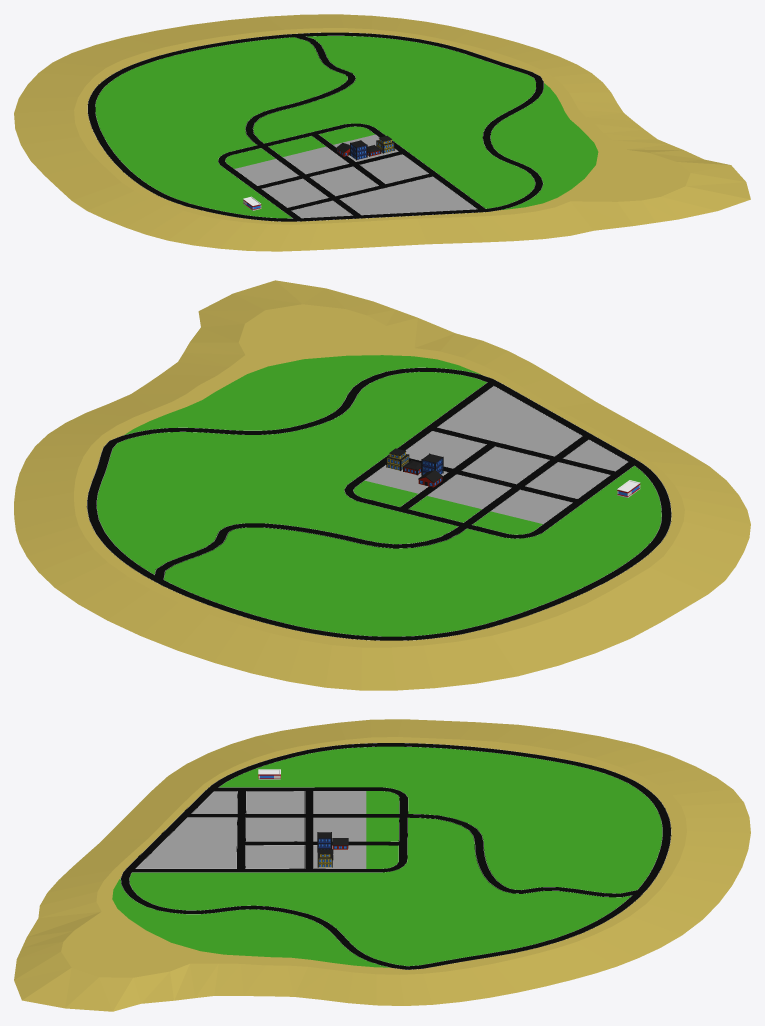
Rendered from ground.obj.
3 renders of one model, top to bottom at view 1: azimuth 30°, elevation 25°; view 2: azimuth 150°, elevation 25°; view 3: azimuth 270°, elevation 25°, orthographic. The views are drawn at different scales.
Parts seen in each view (by area): view 1: ground, road; view 2: ground, road; view 3: ground, road.
Boxes of the visible parts, x1=… form: ground: x1=14, y1=14, x2=750, y2=251; road: x1=87, y1=32, x2=543, y2=221; ground: x1=14, y1=280, x2=750, y2=690; road: x1=86, y1=367, x2=671, y2=640; ground: x1=14, y1=719, x2=750, y2=1011; road: x1=120, y1=743, x2=671, y2=969.
Size of the model in its own units: 805 by 29.94 by 857.
